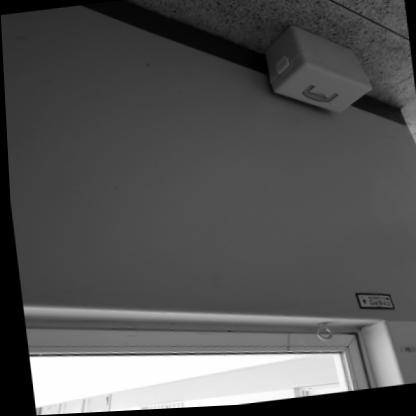DDL: (263, 21, 371, 122)
